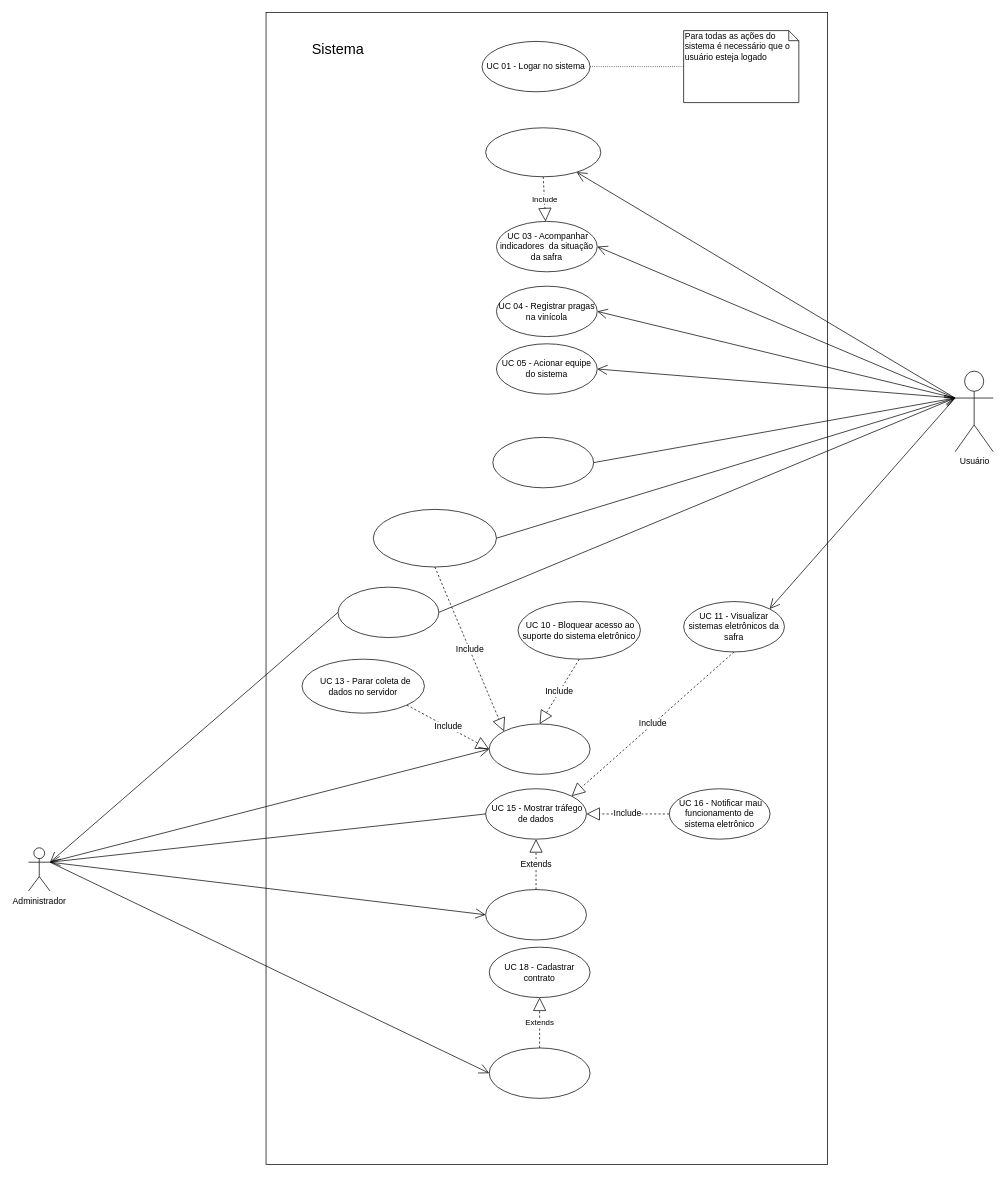
This 1006x1177 diagram has some shape labels left out. Here are the shapes that lost their labels. From the top down, the box of each, then its label:
(485, 127, 601, 177): UC 02 - Visualizar notificações de criticidade
(492, 437, 594, 488): UC 08 - Alertar sobre intemperies
(373, 509, 496, 567): UC 09 - Notificar cancelamento
(337, 586, 439, 638): UC 12 - Acionar suporte dos sistemas eletrônicos
(489, 723, 590, 774): UC 14 - Cancelar contrato
(485, 889, 586, 940): UC 17 - Visualizar vinícolas
(489, 1047, 590, 1098): UC 19 - Cadastrar vinícola
